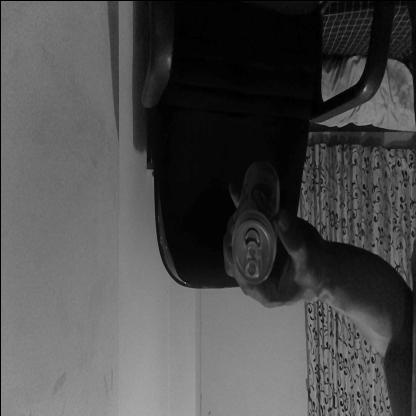alumunium_can: (233, 163, 277, 294)
